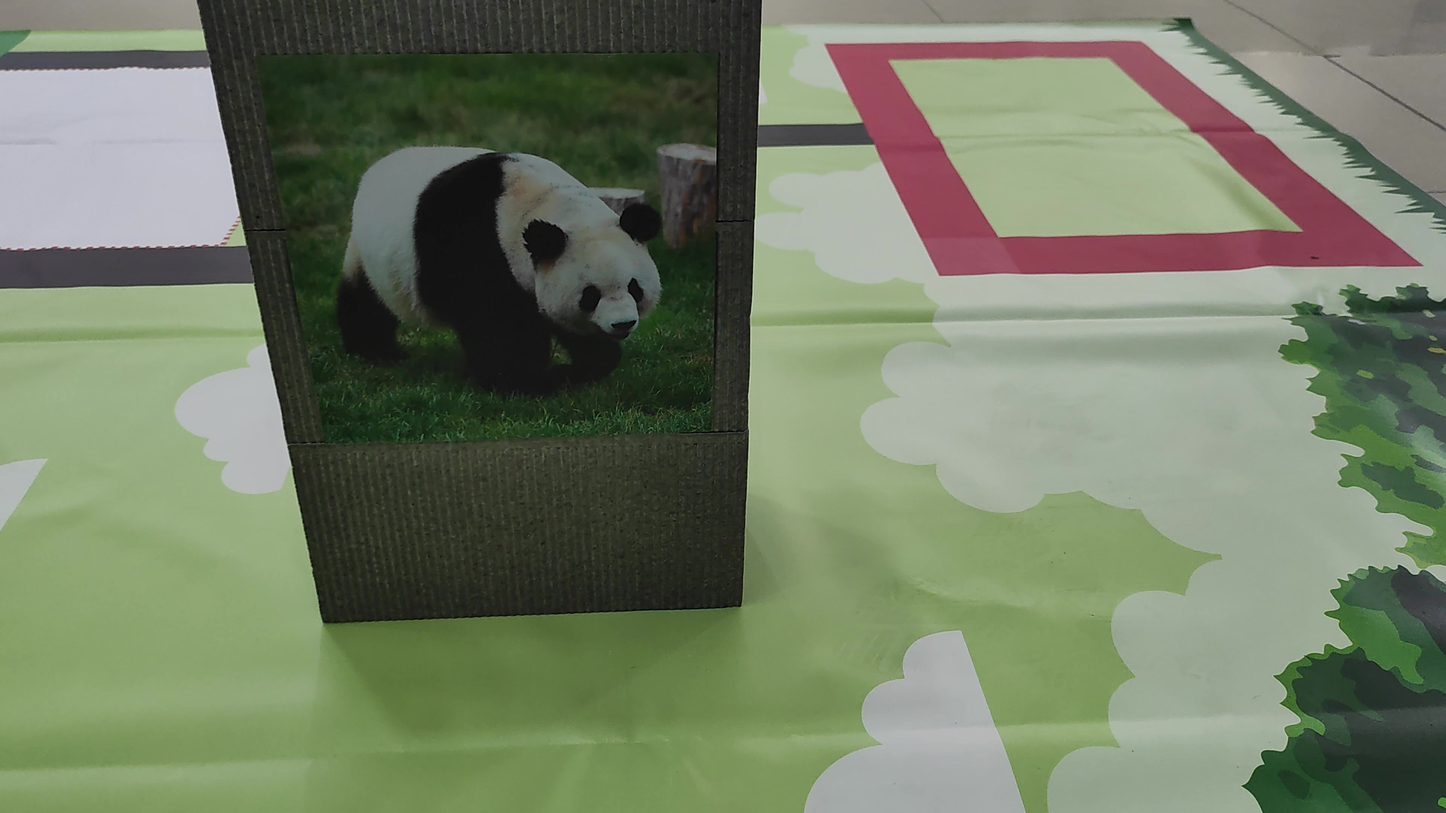panda: (296, 92, 674, 437)
